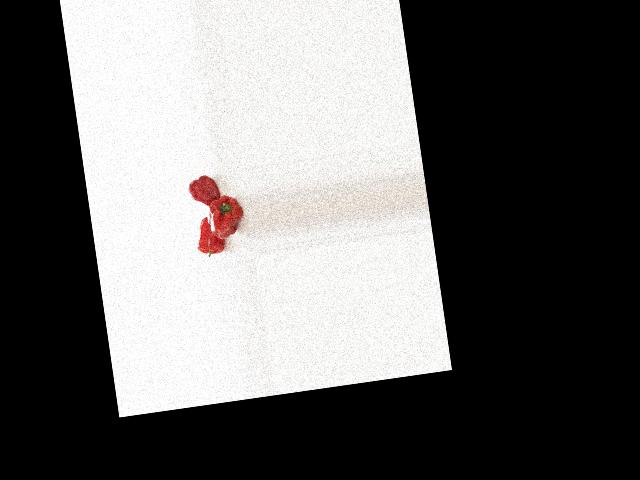bell_pepper: (186, 171, 222, 206)
